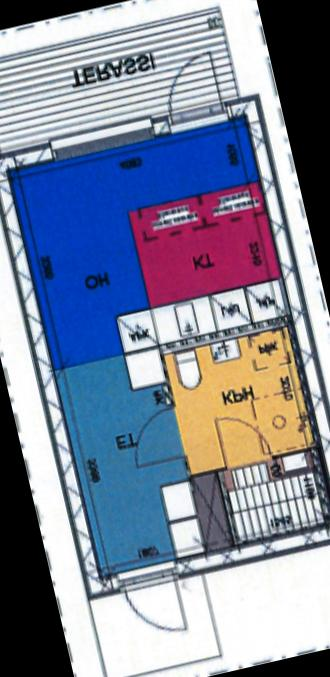door: (112, 556, 194, 642), (154, 47, 232, 130), (119, 402, 192, 474), (209, 408, 274, 472)
window: (40, 114, 164, 164)
